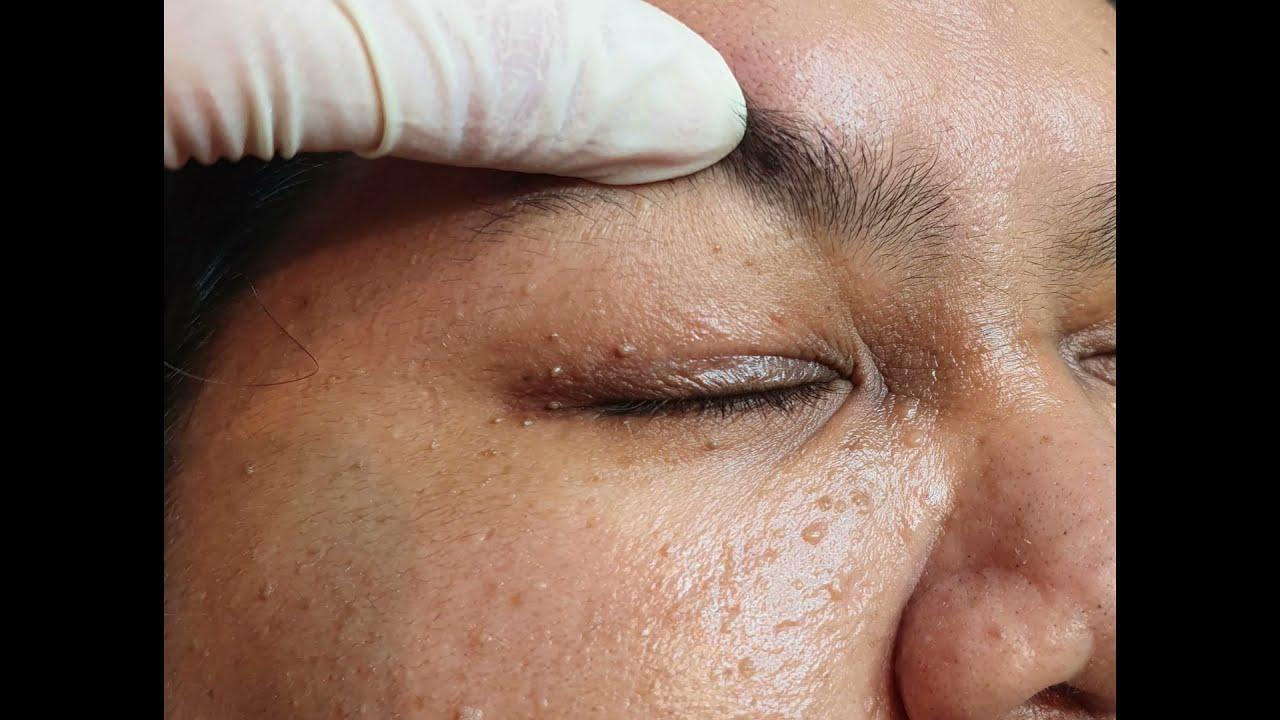blackhead: (1014, 455, 1045, 505), (1007, 550, 1037, 582), (993, 619, 1018, 656), (1084, 594, 1107, 632), (1053, 525, 1079, 554)
flat_wart: (793, 483, 901, 560), (557, 609, 635, 675), (706, 532, 789, 584), (712, 650, 783, 686), (822, 570, 868, 612), (473, 622, 522, 659), (448, 702, 512, 719)
milium: (246, 564, 284, 620), (532, 347, 574, 388), (424, 437, 450, 468), (488, 412, 504, 438)
syringoma: (884, 345, 945, 471)
